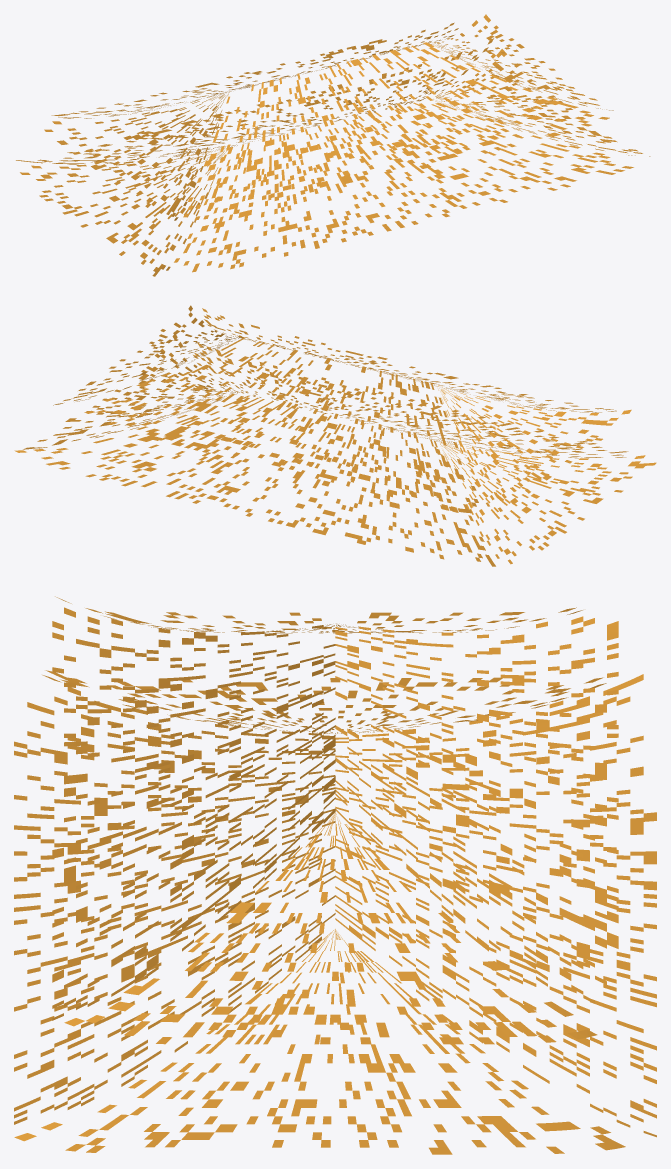
The model's file is SM_14_tile1.fbx.
3 views of the same model, one above another, from view 1: azimuth 30°, elevation 25°; view 2: azimuth 150°, elevation 25°; view 3: azimuth 270°, elevation 25° (orthographic). The views are drawn at different scales.
Parts seen in each view (by area): view 1: tile1; view 2: tile1; view 3: tile1.
Boxes of the visible parts, x1,y1,x2,y2 form: tile1: [16, 14, 650, 276]; tile1: [14, 305, 656, 566]; tile1: [14, 596, 656, 1154].
Size of the model in its own units: 5300 by 3020 by 1030.
